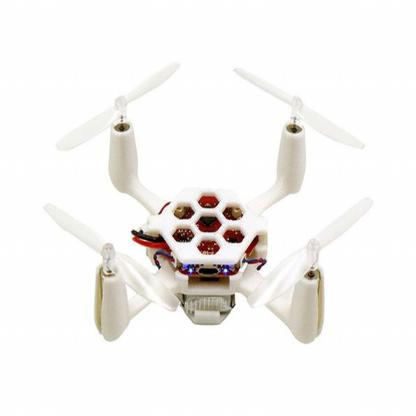drone: (30, 48, 388, 358)
